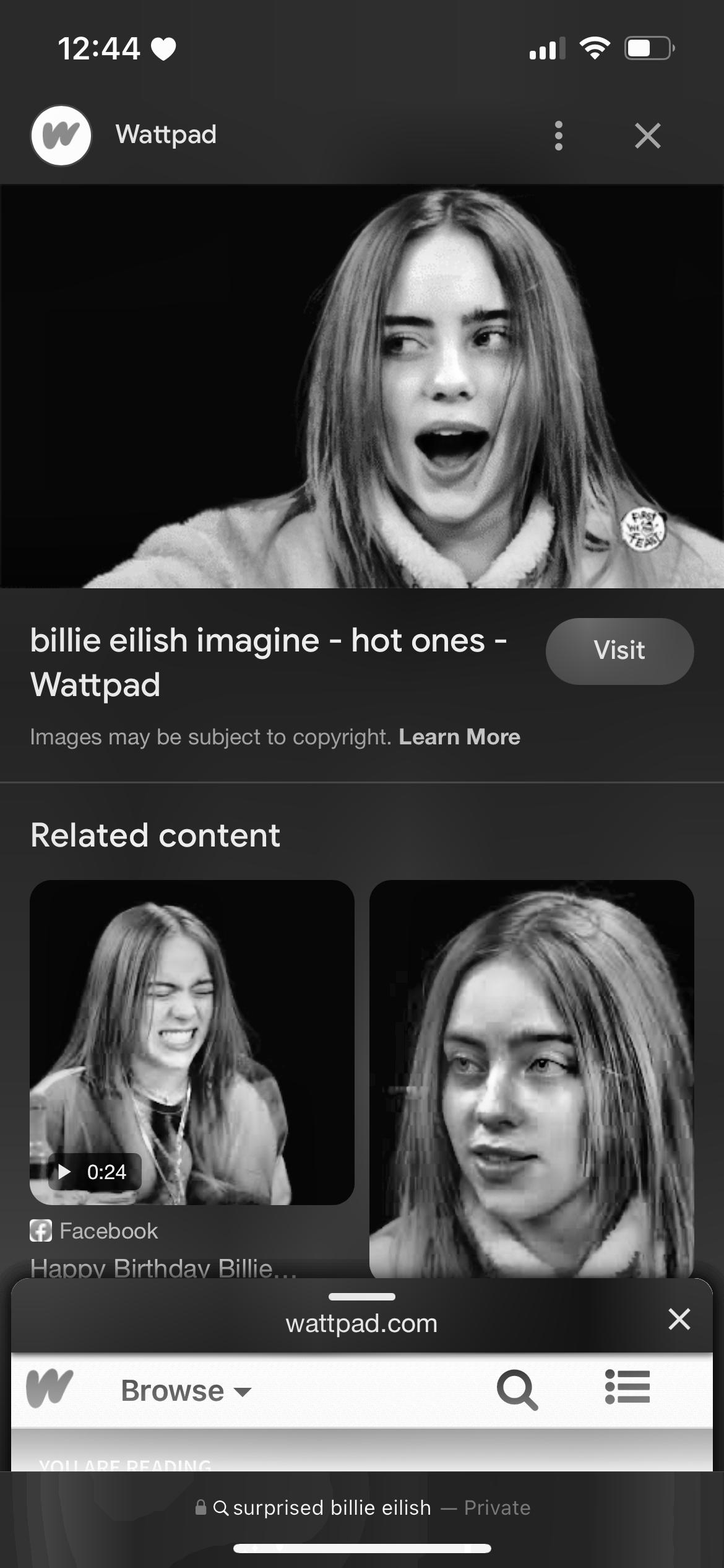surprised: (355, 203, 555, 543)
